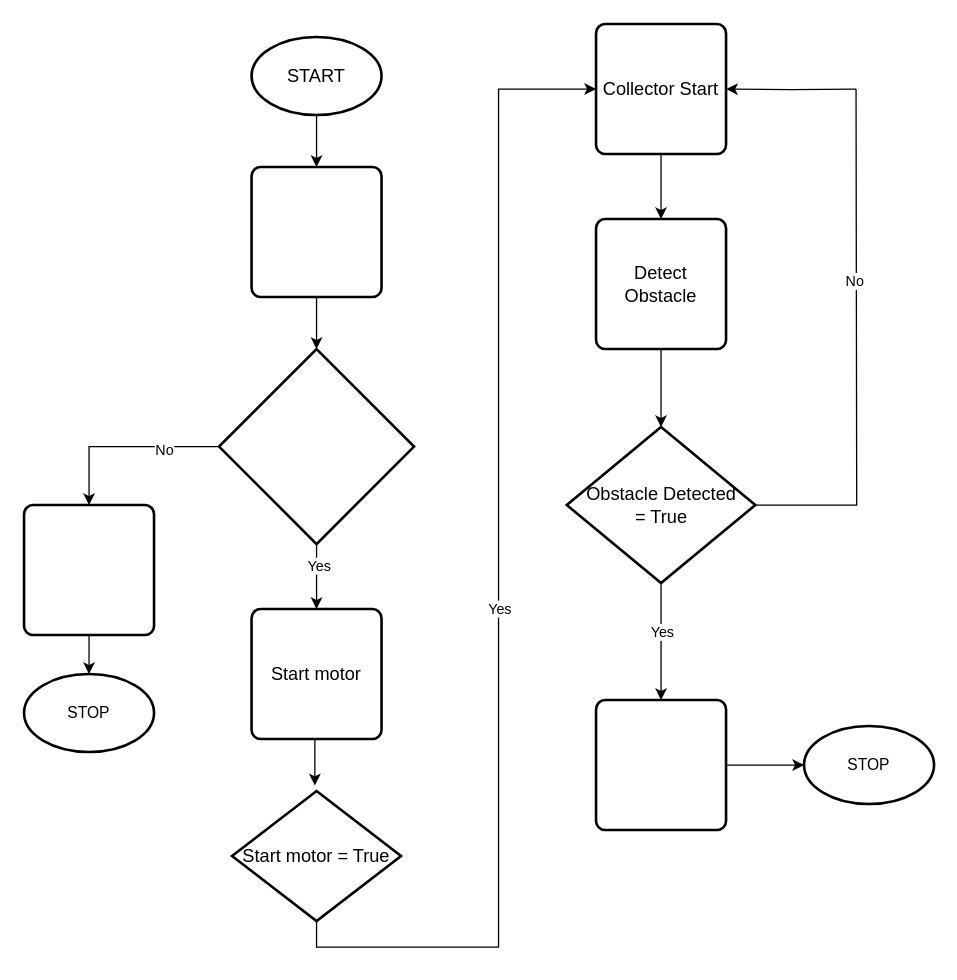
Some shapes in this 957 by 980 pixel diagram are drawn without their labels. Here are the shapes that lost their labels. From the top down, the box of each, then its label:
(250, 165, 382, 298): Initialize mission planning
(217, 347, 415, 545): Wifi Telemetry received data = True
(22, 503, 155, 636): RC Transmitter with Receiver
(594, 698, 727, 831): Avoid obstacle
